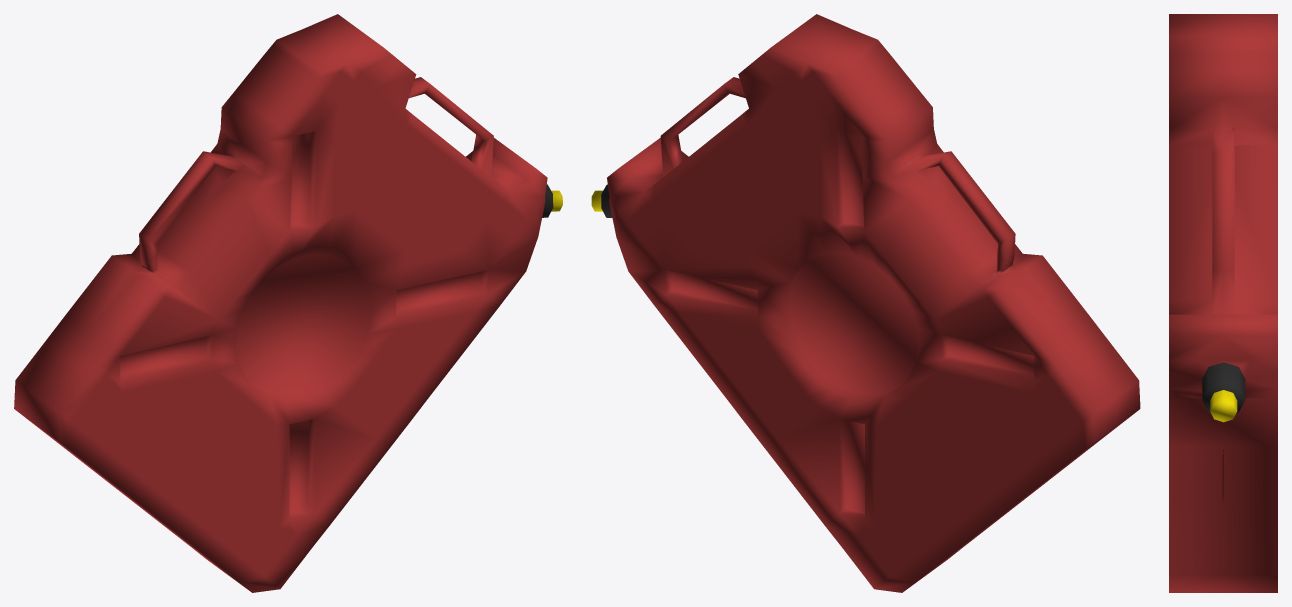
Rendered from Gasoline.fbx.
3 renders of one model, left to right at view 1: azimuth 30°, elevation 25°; view 2: azimuth 150°, elevation 25°; view 3: azimuth 270°, elevation 25°, orthographic. The views are drawn at different scales.
Visible parts, largest first — view 1: Gasoline; view 2: Gasoline; view 3: Gasoline.
Boxes of the visible parts, left/top/right/bottom form: Gasoline: left=14, top=14, right=562, bottom=592; Gasoline: left=591, top=14, right=1140, bottom=592; Gasoline: left=1169, top=14, right=1277, bottom=592.
Size of the model in its own units: 4.02 by 3.8 by 0.6093.
1 material, 1 textured.
